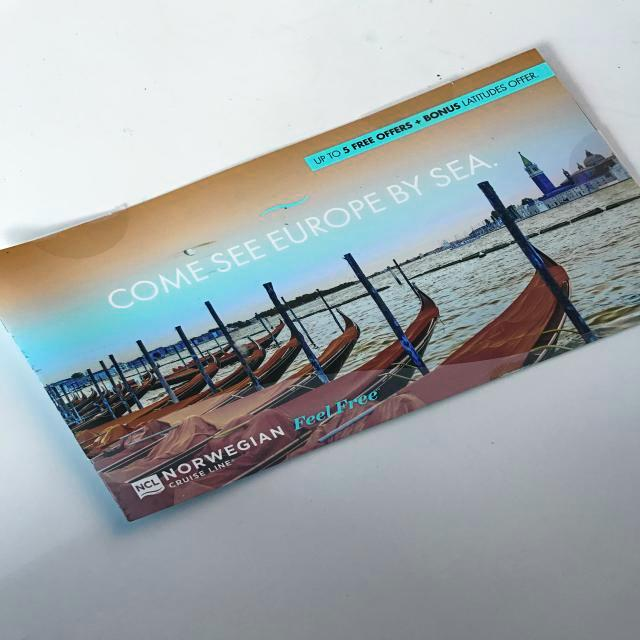paper: (0, 25, 640, 560)
